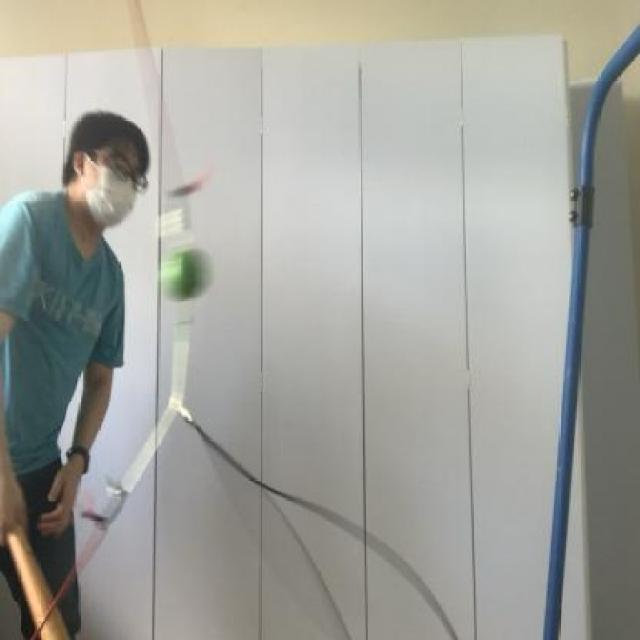baseball: (152, 242, 214, 315)
